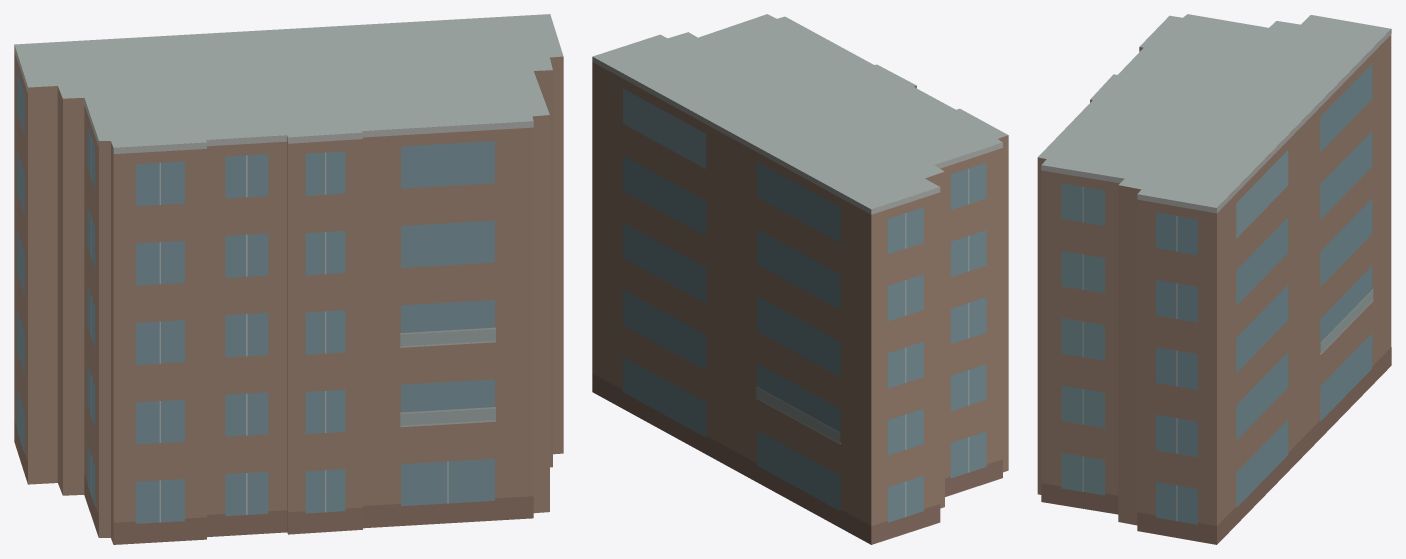
Rendered from survey-upis-32507917.glb.
The picture shows the model from 3 angles, left to right: view 1: azimuth 30°, elevation 25°; view 2: azimuth 150°, elevation 25°; view 3: azimuth 270°, elevation 25°; orthographic projection. The views are drawn at different scales.
Parts seen in each view (by area): view 1: survey-upis-32507917.tmp; view 2: survey-upis-32507917.tmp; view 3: survey-upis-32507917.tmp.
Part boxes in pixels (box(x1,y1,x2,y2)): survey-upis-32507917.tmp: box(14, 14, 563, 544); survey-upis-32507917.tmp: box(592, 14, 1008, 544); survey-upis-32507917.tmp: box(1037, 14, 1391, 544).
Bounding box in the file's own units: 18.85 × 15.25 × 14.53.
